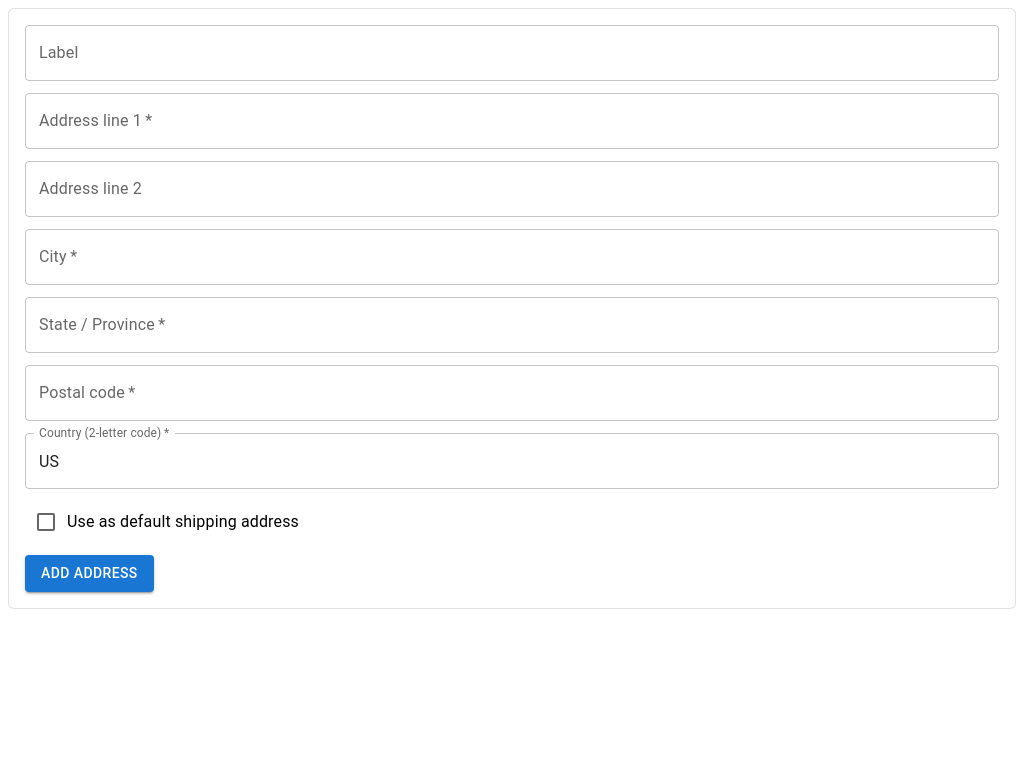
Test: strips non-numeric characters from the postal code field
In the field labelled "Postal code *": (512, 393) [25,365,999,421], type "95a06b0"
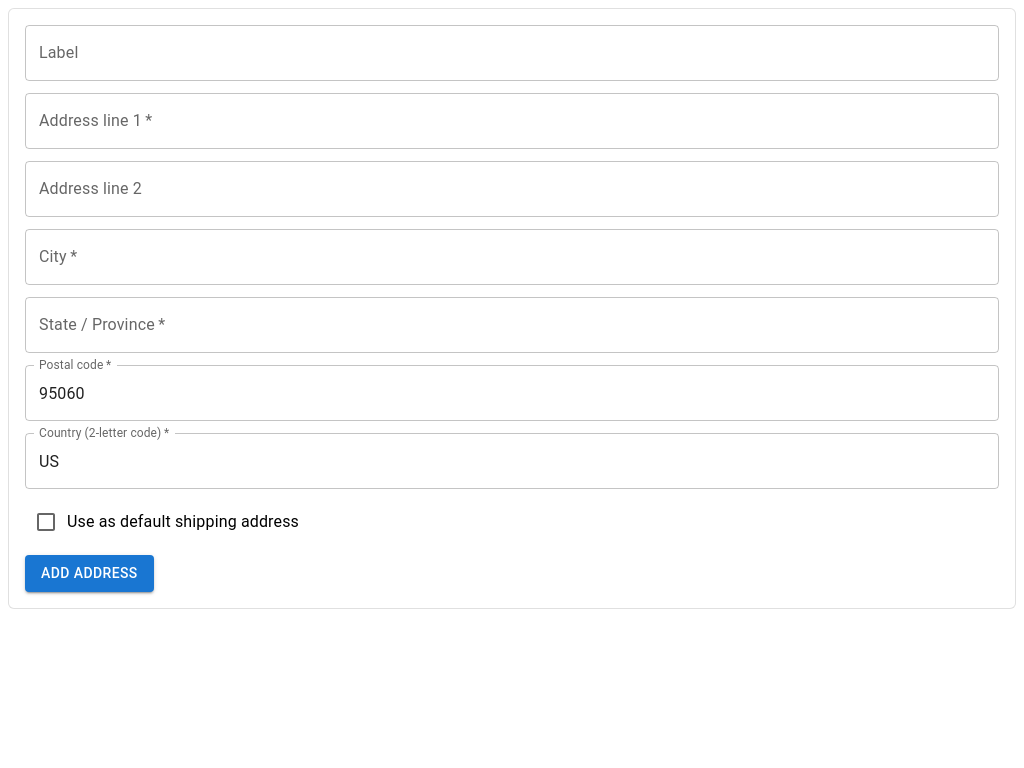
Check: the field labelled "Postal code *" holds "95060", box [25,365,999,421]
